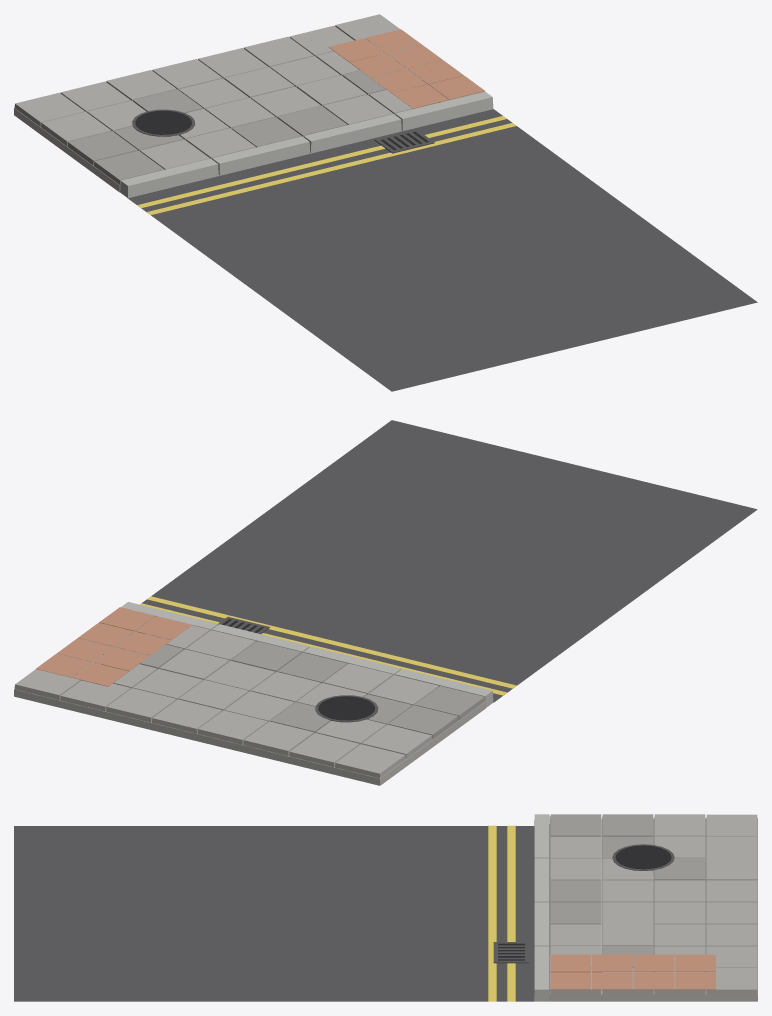
File: exterior_pavement_kerb.fbx
3 views of the same model, one above another, from view 1: azimuth 30°, elevation 25°; view 2: azimuth 150°, elevation 25°; view 3: azimuth 270°, elevation 25° (orthographic).
Visible parts, largest first — view 1: exterior_pavement_kerb; view 2: exterior_pavement_kerb; view 3: exterior_pavement_kerb.
Part boxes in pixels (<box>): exterior_pavement_kerb: <box>14,14,757,391</box>; exterior_pavement_kerb: <box>14,420,757,785</box>; exterior_pavement_kerb: <box>14,814,757,1001</box>.
Bounding box in the file's own units: 4 × 0.133 × 7.15.
